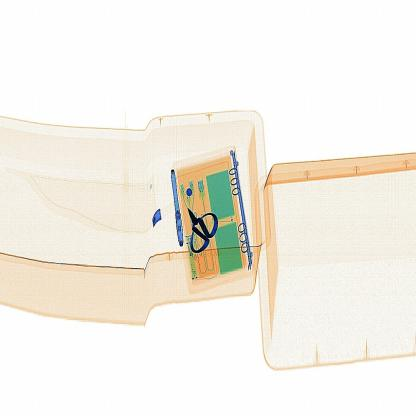gun: (182, 203, 228, 265)
